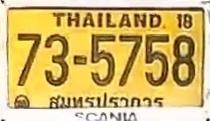3: (44, 33, 68, 86)
5: (90, 32, 115, 86), (144, 33, 169, 86)
7: (16, 32, 41, 86), (118, 34, 142, 86)
8: (172, 34, 195, 86)
SPK: (47, 91, 166, 110)
